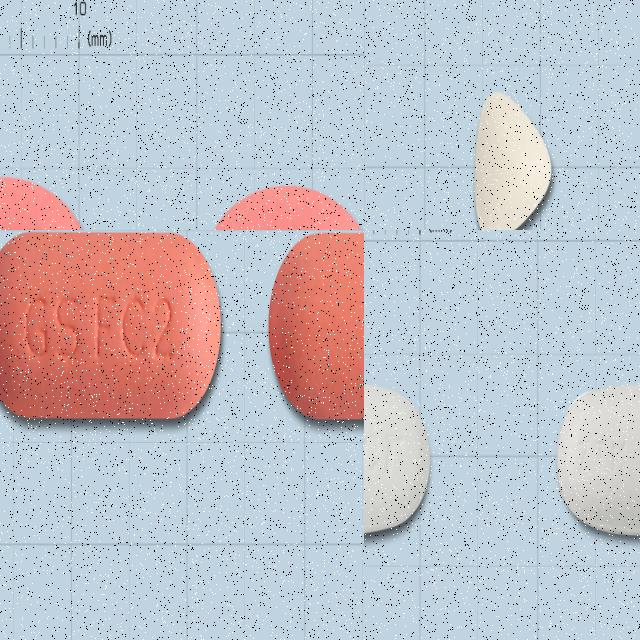Isentress HD: (204, 182, 364, 230)
Kimara: (473, 91, 553, 230)
Kivexa: (0, 231, 225, 420), (268, 230, 364, 420)
Zyvox Tab: (558, 387, 640, 532), (364, 380, 431, 534)
